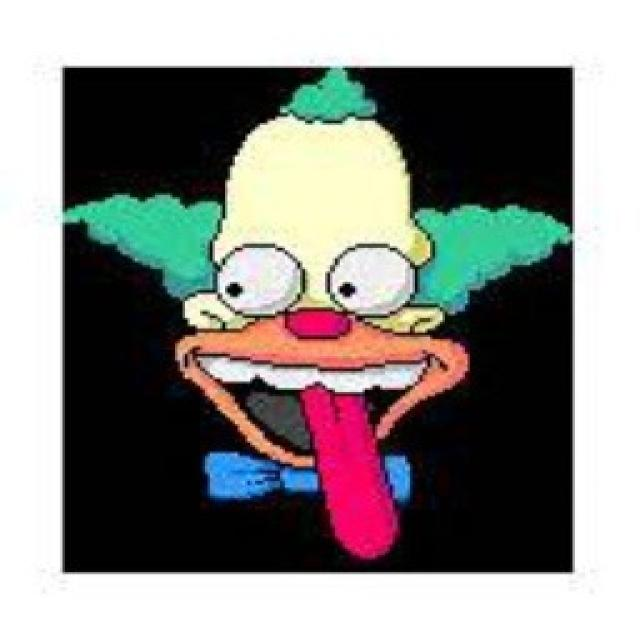Krusty the Clown: (65, 62, 580, 481)
